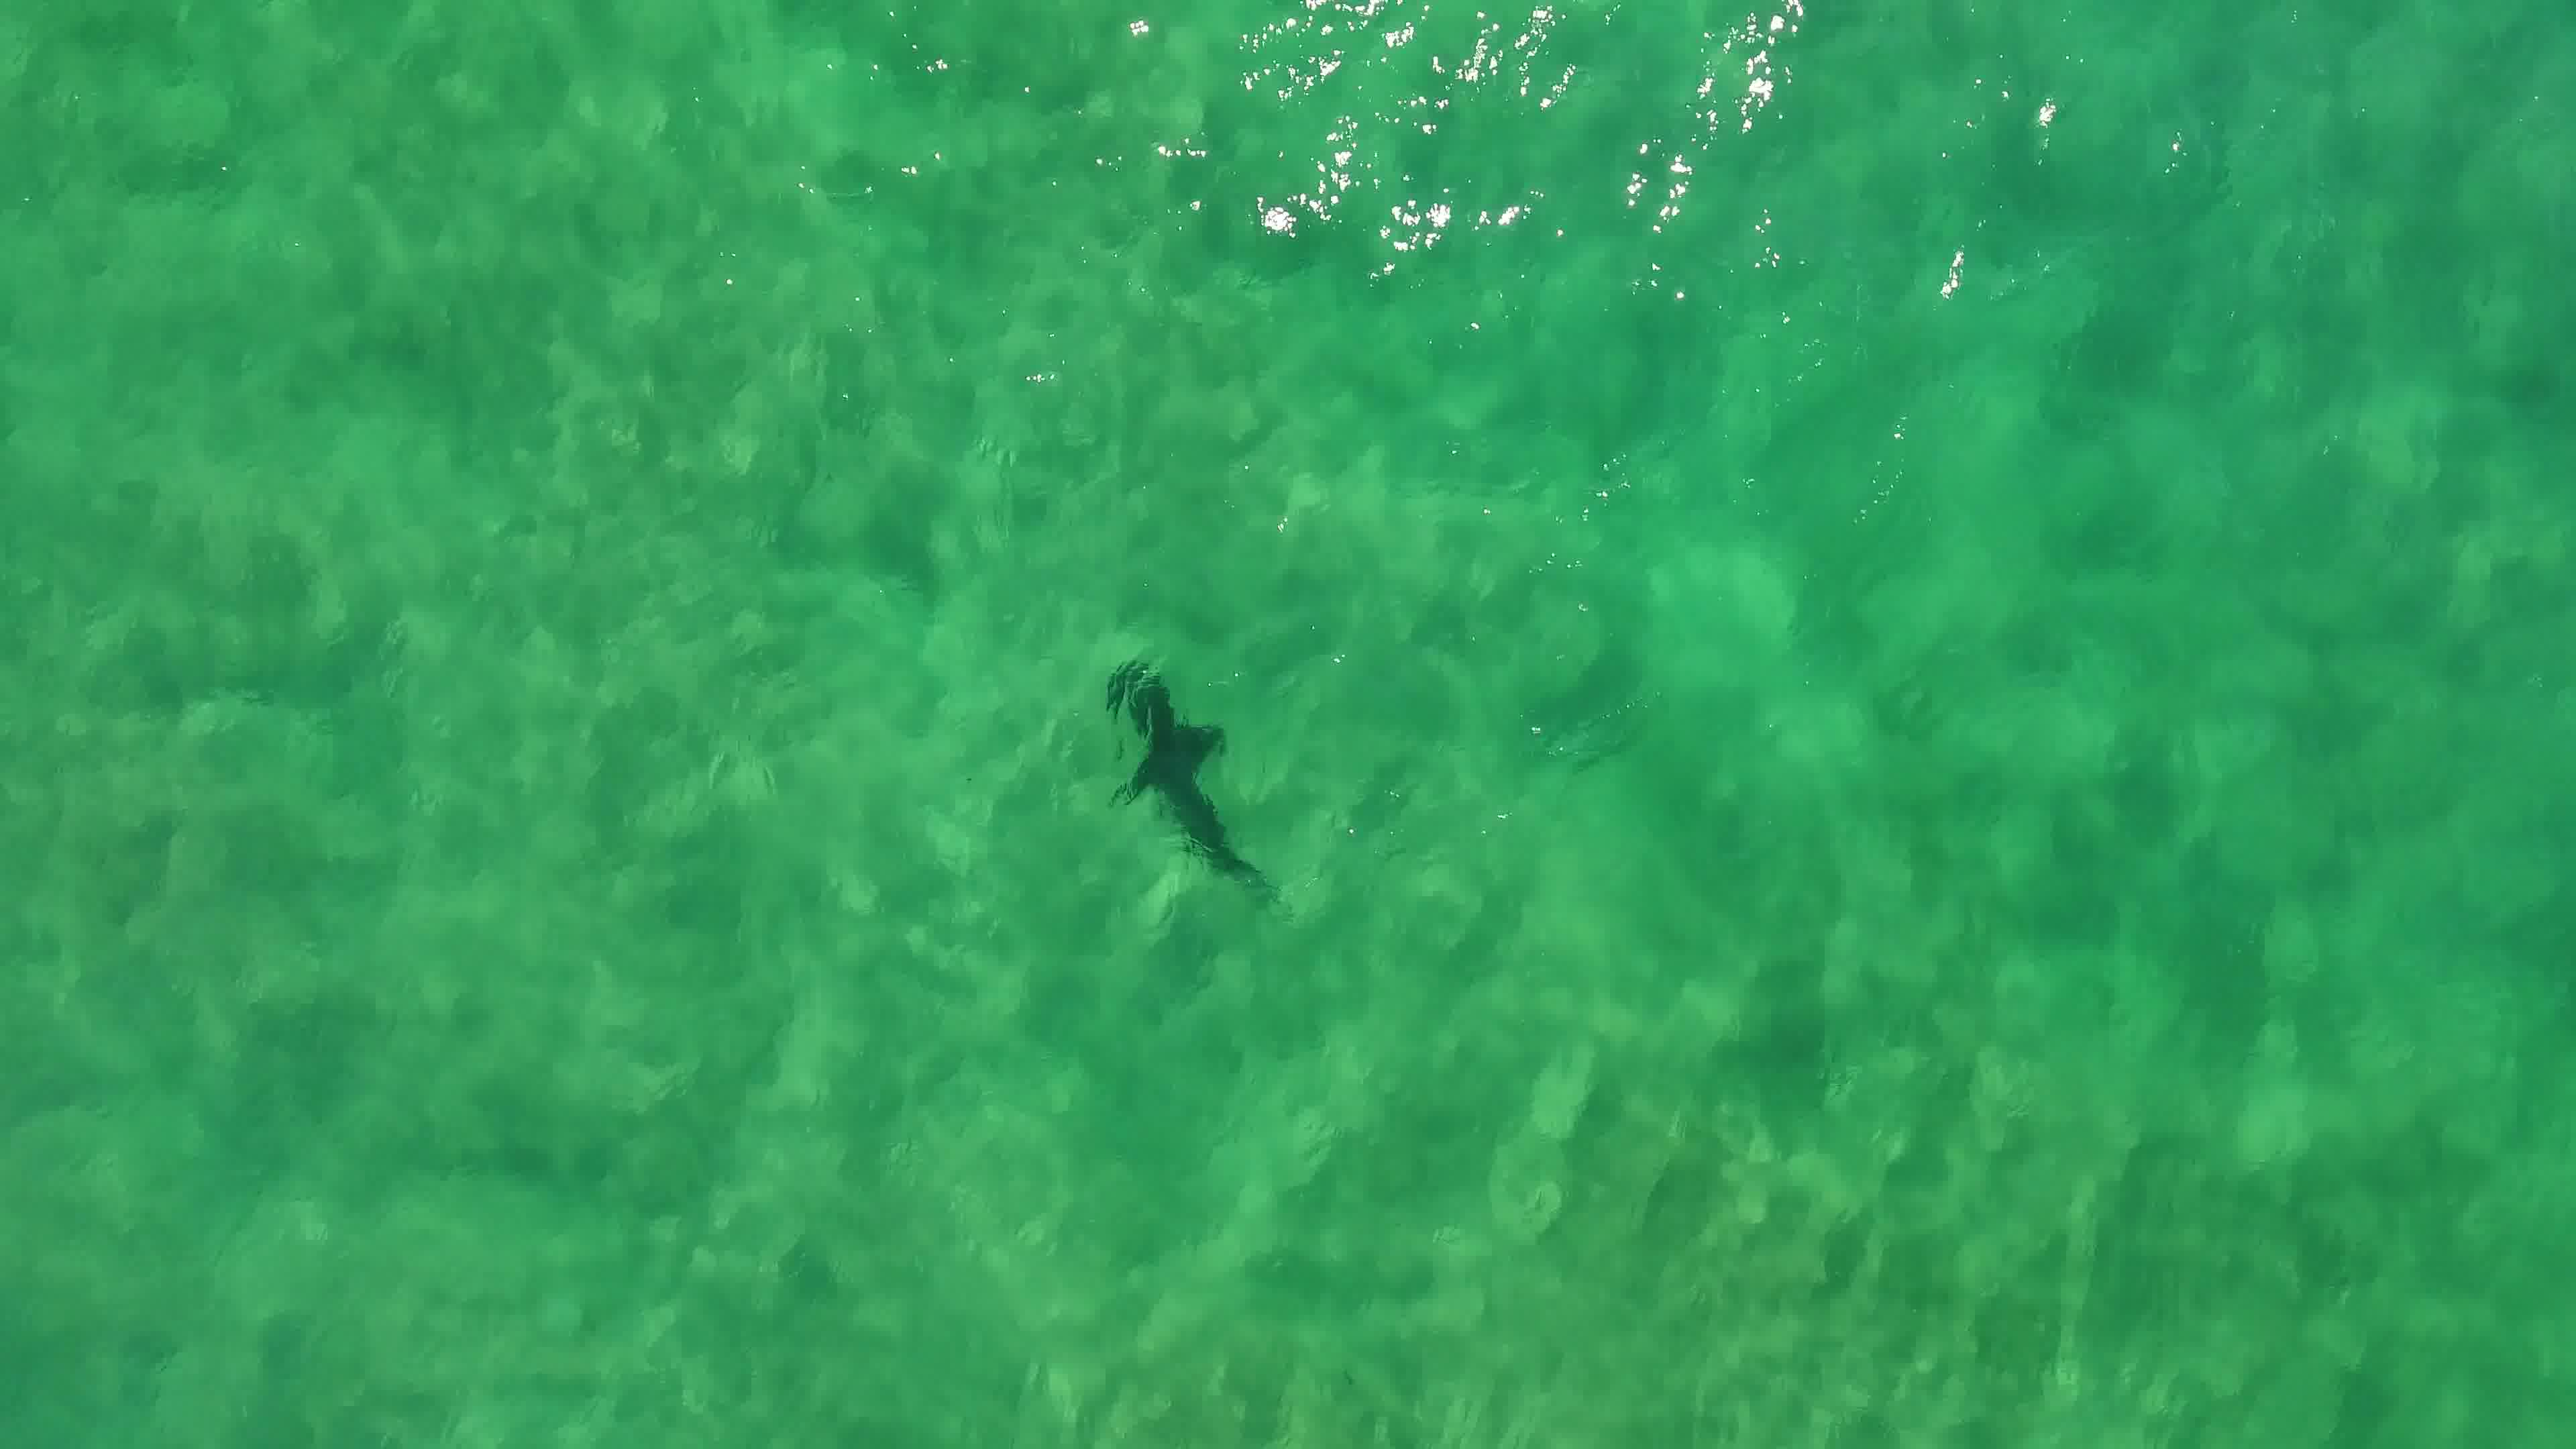shark: (1092, 651, 1288, 909)
